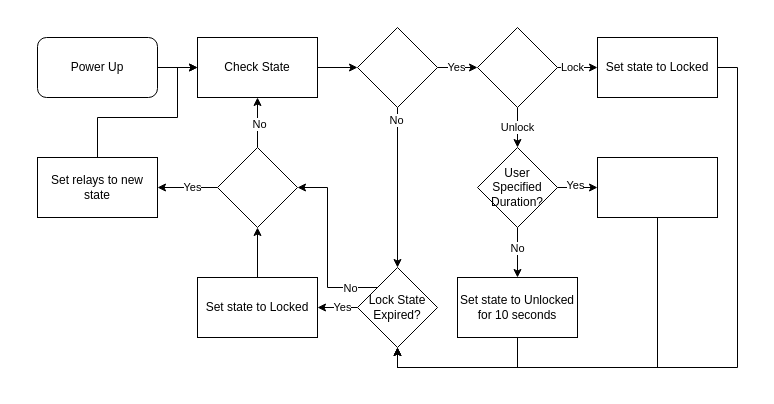
Image size: 774x404. Some labels were removed from this diagram. Here are the shapes that lost their labels. From the top down, the centre of each, then its label:
the point at 397,67: Command Received?
the point at 517,67: Action?
the point at 257,187: Relay State Expired?
the point at 657,187: Set state to Unlocked for finite user defined period
